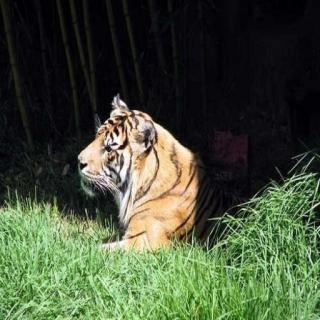Tiger: (66, 88, 212, 264)
